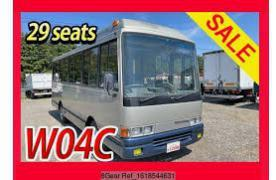bus: (52, 18, 207, 160)
